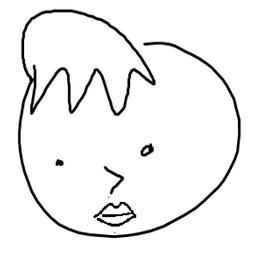cupid_mouth: (77, 200, 139, 228)
pointy_nose: (99, 160, 134, 194)
small_eye: (43, 156, 74, 174), (135, 141, 159, 161)
